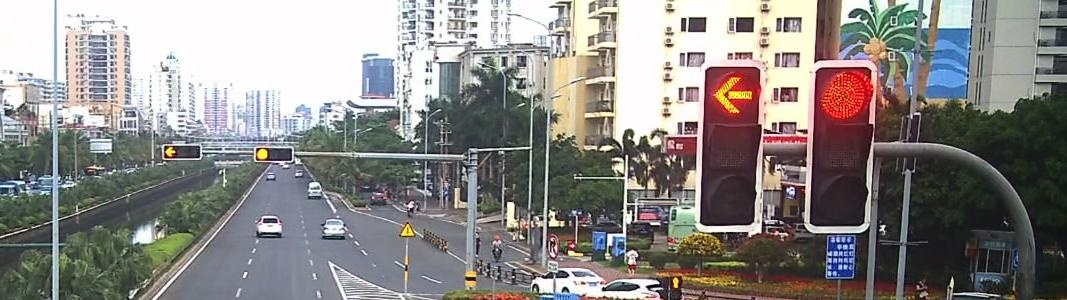red: (817, 65, 875, 125), (249, 146, 273, 166)
redleft: (707, 71, 762, 126), (162, 144, 178, 158)
redpeople: (670, 271, 683, 296)
